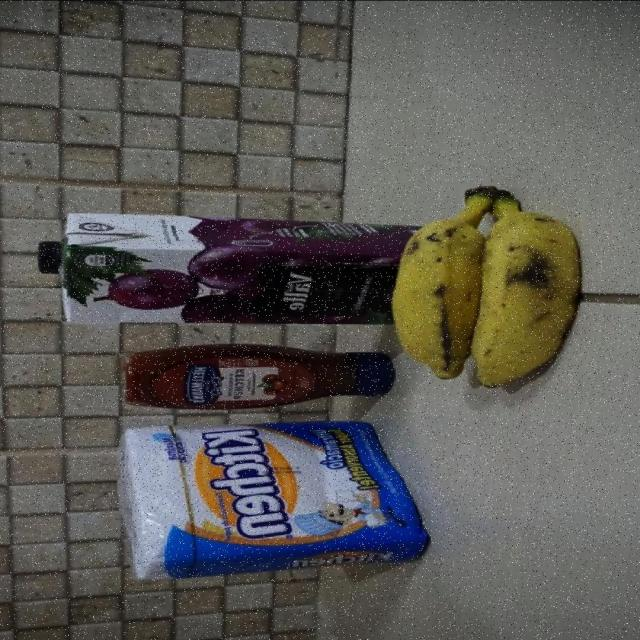Banana: (390, 186, 594, 388)
Ketchup: (120, 343, 374, 410)
Napkin: (115, 422, 429, 584)
